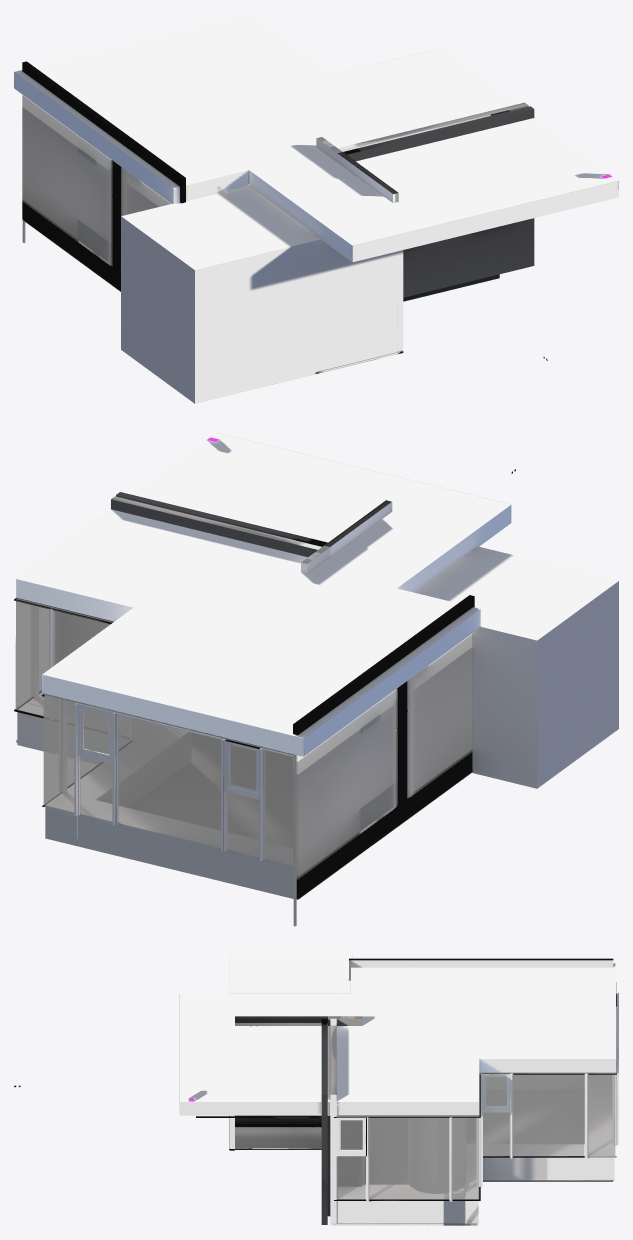
3 views of the same model, one above another, from view 1: azimuth 30°, elevation 25°; view 2: azimuth 150°, elevation 25°; view 3: azimuth 270°, elevation 25° (orthographic). The views are drawn at different scales.
Parts seen in each view (by area): view 1: 立方体.001, 立方体.003, 物件_720.001, 物件_581.001, 物件_568.001; view 2: 立方体.001, 立方体.003, 物件_228.002, 物件_720.001, 物件_262, 物件_1916, 物件_402, 物件_568.001, 物件_568.002, 物件_1, 物件_581.001, 物件_367; view 3: 立方体.001, 物件_228.002, 物件_262, 物件_1916, 物件_568.001, 立方体.003, 物件_1, 物件_720.001, 物件_402, 立方体, 物件_581.001, 物件_367.
Boxes of the visible parts, x1=… form: 立方体.001: x1=14, y1=14, x2=618, y2=262; 立方体.003: x1=121, y1=186, x2=403, y2=403; 物件_720.001: x1=22, y1=61, x2=185, y2=290; 物件_581.001: x1=343, y1=106, x2=534, y2=297; 物件_568.001: x1=316, y1=102, x2=528, y2=202; 立方体.001: x1=16, y1=432, x2=511, y2=756; 立方体.003: x1=415, y1=546, x2=618, y2=788; 物件_228.002: x1=15, y1=601, x2=293, y2=865; 物件_720.001: x1=293, y1=595, x2=474, y2=899; 物件_262: x1=17, y1=692, x2=293, y2=898; 物件_1916: x1=16, y1=733, x2=471, y2=899; 物件_402: x1=33, y1=606, x2=293, y2=861; 物件_568.001: x1=110, y1=496, x2=392, y2=573; 物件_568.002: x1=111, y1=499, x2=317, y2=556; 物件_1: x1=55, y1=611, x2=109, y2=664; 物件_581.001: x1=116, y1=492, x2=327, y2=546; 物件_367: x1=15, y1=597, x2=294, y2=755; 立方体.001: x1=179, y1=963, x2=615, y2=1115; 物件_228.002: x1=337, y1=1073, x2=615, y2=1199; 物件_262: x1=336, y1=1075, x2=614, y2=1225; 物件_1916: x1=229, y1=1090, x2=612, y2=1225; 物件_568.001: x1=235, y1=1016, x2=362, y2=1224; 立方体.003: x1=229, y1=955, x2=352, y2=1150; 物件_1: x1=408, y1=1118, x2=465, y2=1193; 物件_720.001: x1=349, y1=958, x2=613, y2=1089; 物件_402: x1=336, y1=982, x2=618, y2=1201; 立方体: x1=327, y1=1115, x2=361, y2=1216; 物件_581.001: x1=321, y1=1019, x2=327, y2=1224; 物件_367: x1=336, y1=1072, x2=615, y2=1116.
Bounding box in the file's own units: 81.07 × 35.32 × 129.
Materials: 22 (11 with a texture image).
